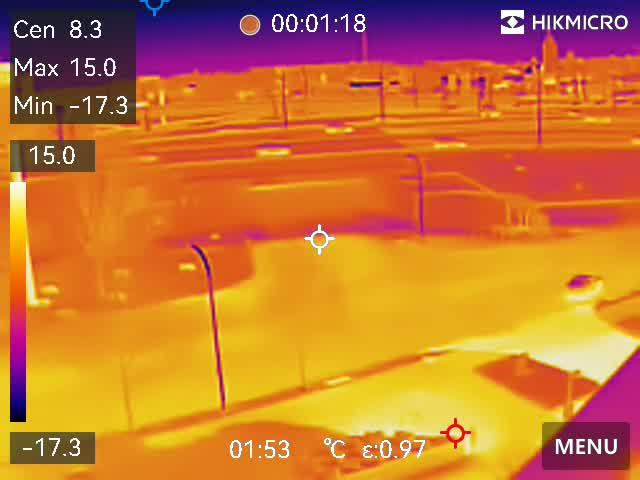vehicle: (560, 275, 609, 298), (250, 141, 295, 160), (323, 121, 357, 137), (433, 137, 468, 151)
